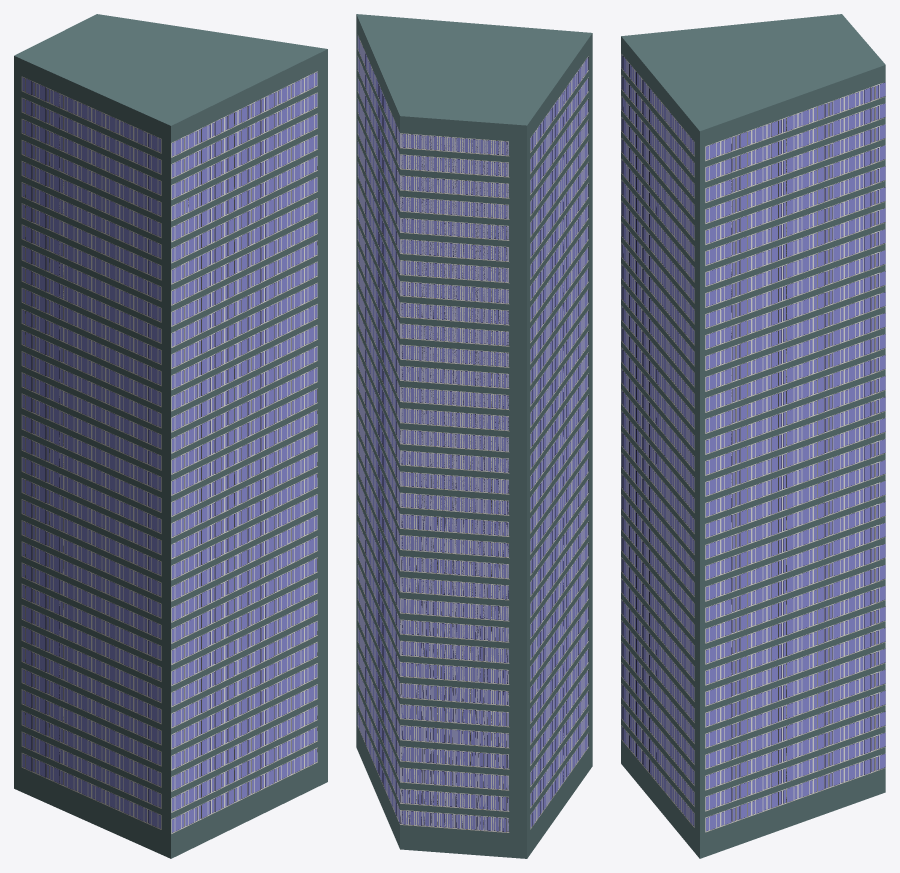
The model's file is NinetyNine.fbx.
3 renders of one model, left to right at view 1: azimuth 30°, elevation 25°; view 2: azimuth 150°, elevation 25°; view 3: azimuth 270°, elevation 25°, orthographic.
Parts seen in each view (by area): view 1: NinetyNine, Window.001, Window.002; view 2: NinetyNine, Window, Window.002; view 3: Window, NinetyNine, Window.001.
Boxes of the visible parts, x1,y1,x2,y2 form: NinetyNine: (14,14,327,858); Window.001: (171,71,317,833); Window.002: (21,76,161,829); NinetyNine: (356,14,592,858); Window: (357,35,509,832); Window.002: (530,56,588,829); Window: (705,82,885,832); NinetyNine: (621,14,885,858); Window.001: (621,54,694,827).
Size of the model in its own units: 3427 by 9906 by 3266.
